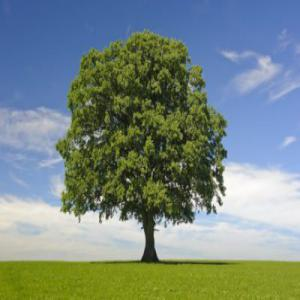Tree: (52, 27, 228, 263)
